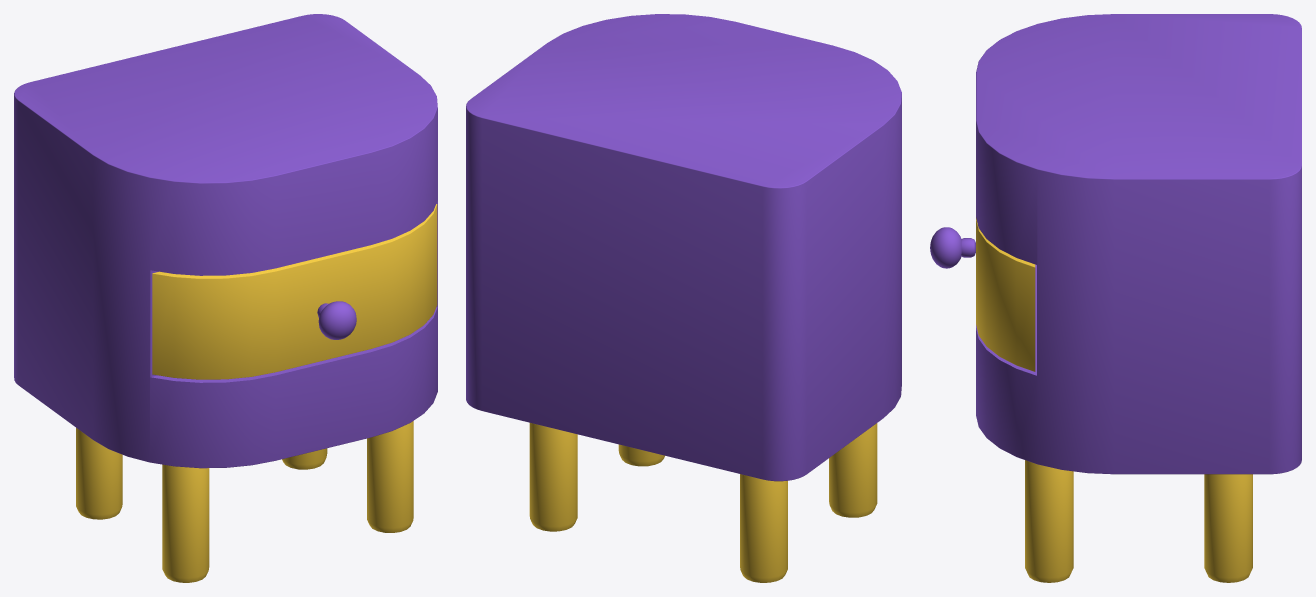
The model's file is criado_capsula_gaveta_roxo.glb.
3 views of the same model, side by side, from view 1: azimuth 30°, elevation 25°; view 2: azimuth 150°, elevation 25°; view 3: azimuth 270°, elevation 25° (orthographic). The views are drawn at different scales.
Visible parts, largest first — view 1: criado_capsula_gaveta_roxo, gaveta_1; view 2: criado_capsula_gaveta_roxo; view 3: criado_capsula_gaveta_roxo, gaveta_1.
Part boxes in pixels (x1=…): criado_capsula_gaveta_roxo: x1=14, y1=14, x2=437, y2=582; gaveta_1: x1=152, y1=204, x2=437, y2=379; criado_capsula_gaveta_roxo: x1=466, y1=14, x2=901, y2=582; criado_capsula_gaveta_roxo: x1=976, y1=14, x2=1301, y2=582; gaveta_1: x1=930, y1=217, x2=1035, y2=371.
Size of the model in its own units: 0.48 by 0.58 by 0.4564.
Materials: 1 (1 with a texture image).
